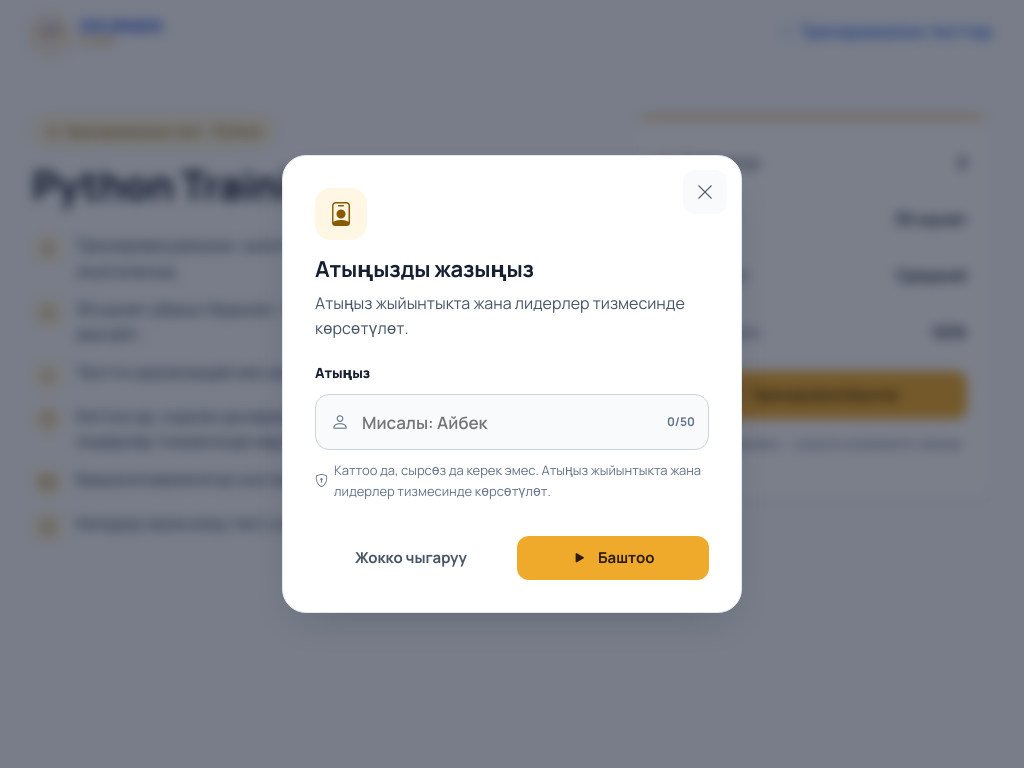
Test: exam layout guard › reports tab switches to the backend and warns the student
This screenshot has width=1024, height=768.
Type "Islam" into the field labelled "Атыңыз" at coordinates (512, 422), box left=315, top=394, right=709, bottom=450
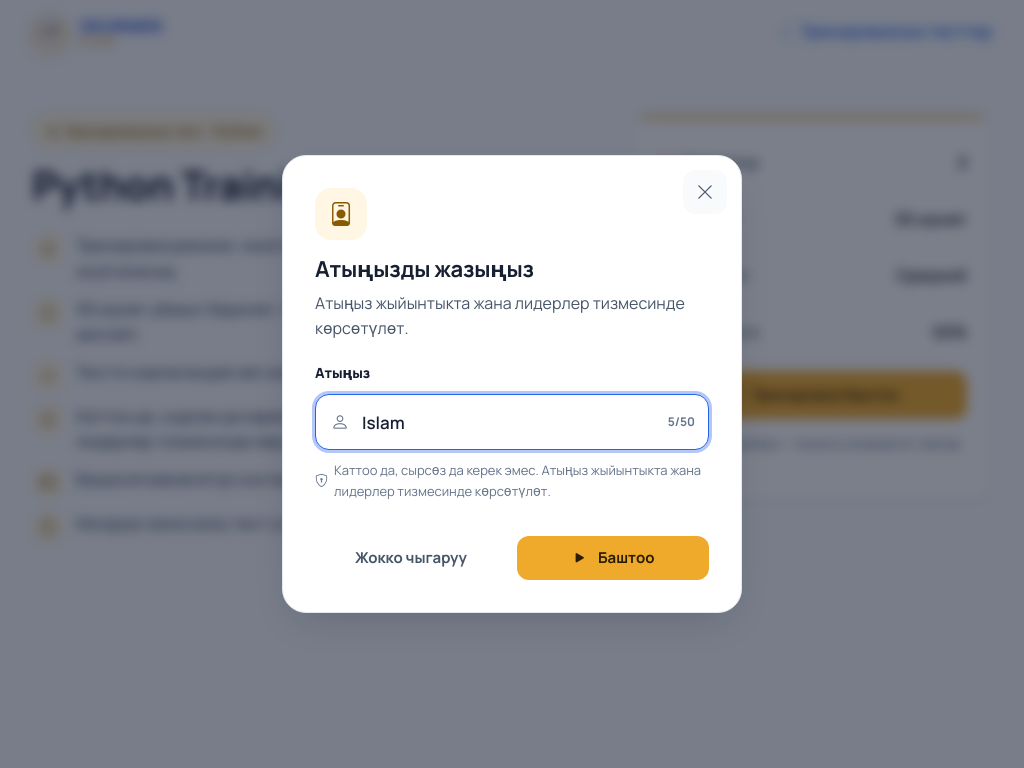
Click the button "Баштоо" at coordinates (613, 558), box left=517, top=536, right=709, bottom=580
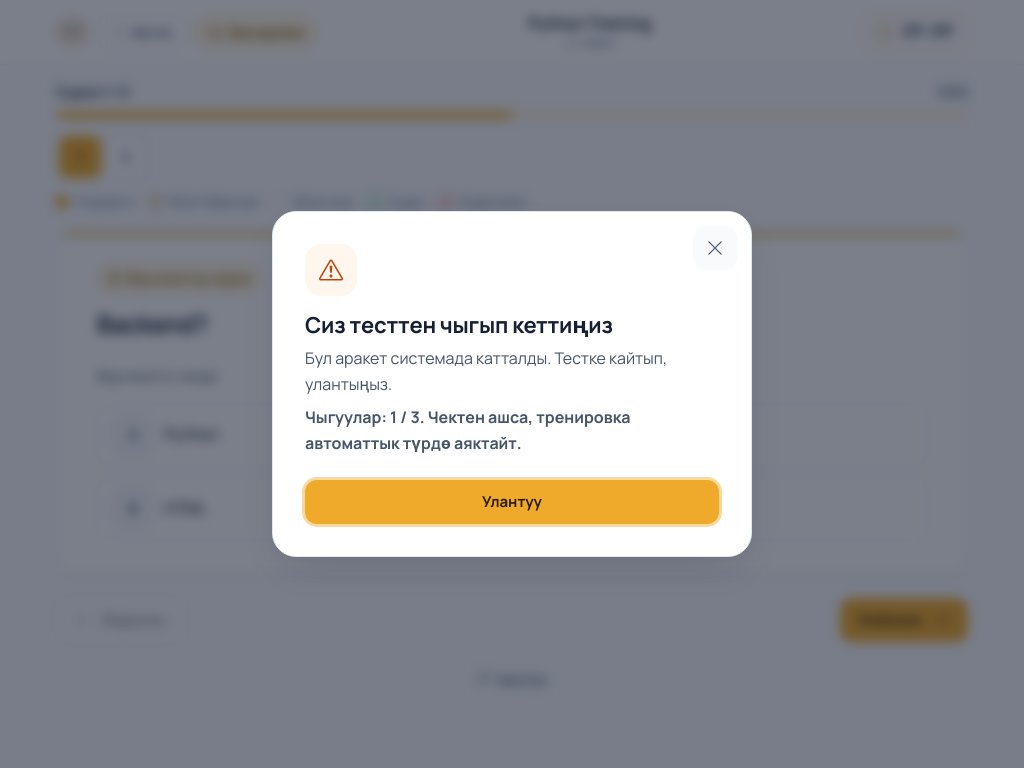
Now the dialog "Сиз тесттен чыгып кеттиңиз" is shown, box left=272, top=211, right=752, bottom=557
